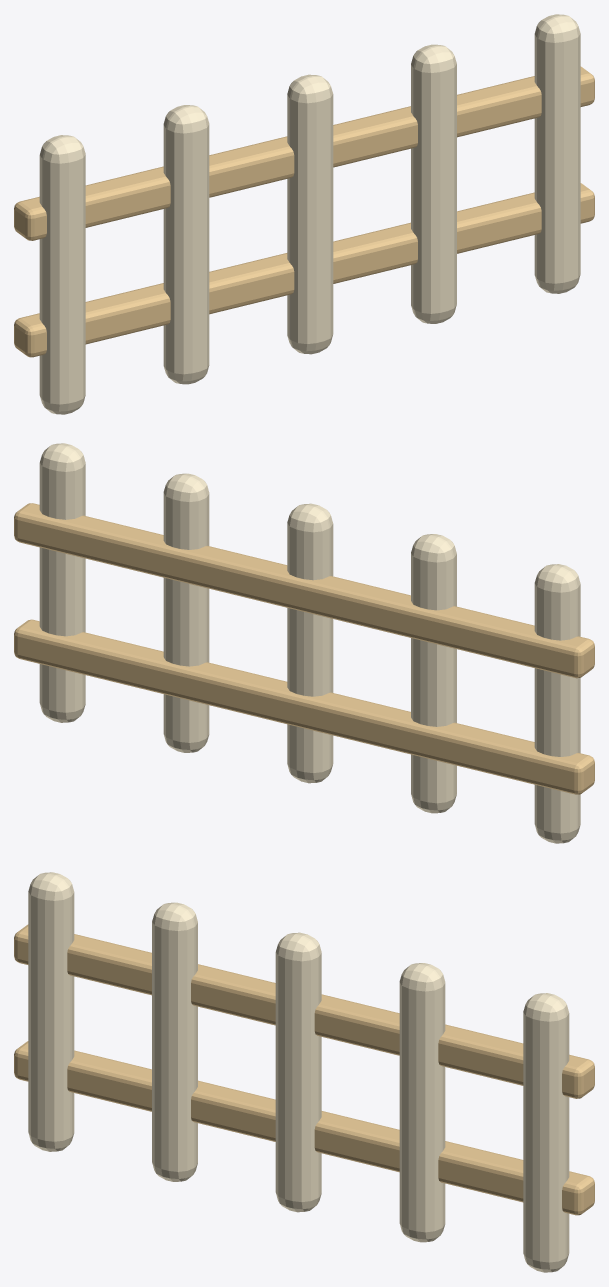
File: fence_segment.glb
3 renders of one model, top to bottom at view 1: azimuth 30°, elevation 25°; view 2: azimuth 150°, elevation 25°; view 3: azimuth 330°, elevation 25°, orthographic.
Parts seen in each view (by area): view 1: fence_segment_Mesh; view 2: fence_segment_Mesh; view 3: fence_segment_Mesh.
Part boxes in pixels (bbox=[...]): fence_segment_Mesh: bbox=[14, 14, 594, 414]; fence_segment_Mesh: bbox=[14, 443, 594, 843]; fence_segment_Mesh: bbox=[14, 872, 594, 1272].
Bounding box in the file's own units: 2.3 × 1.06 × 0.17.
